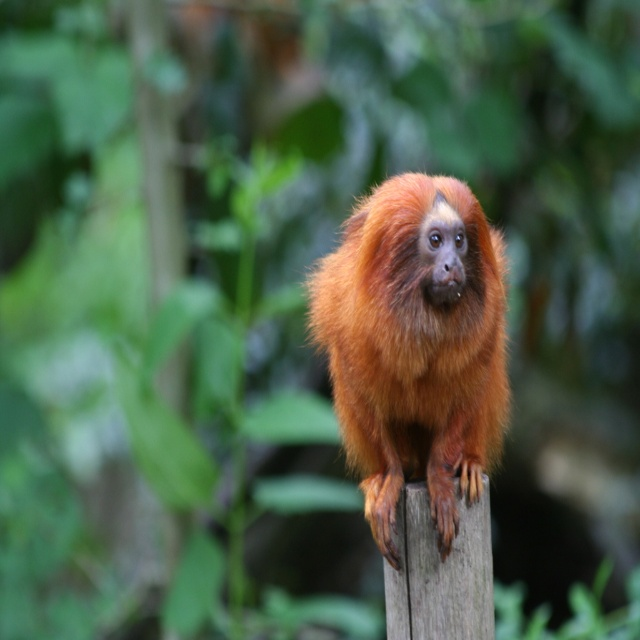Monkey: (299, 172, 509, 575)
